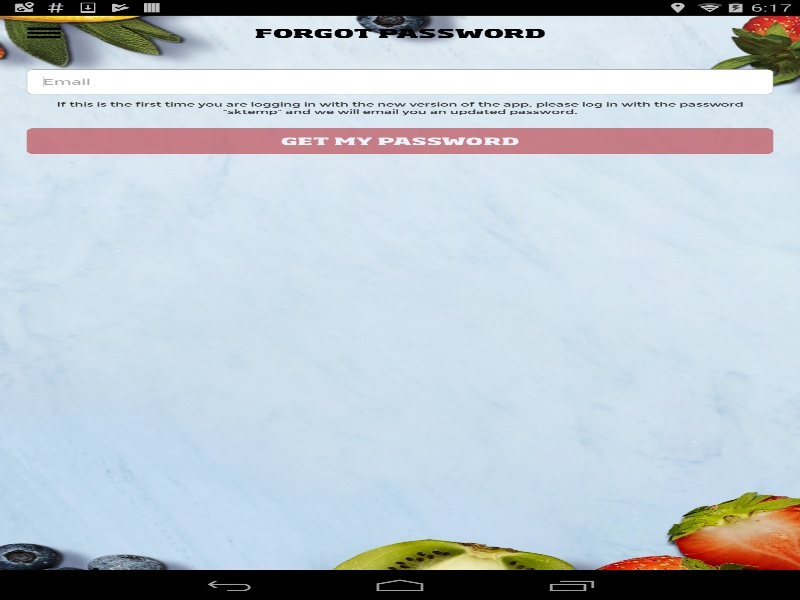Input: (26, 69, 773, 94)
